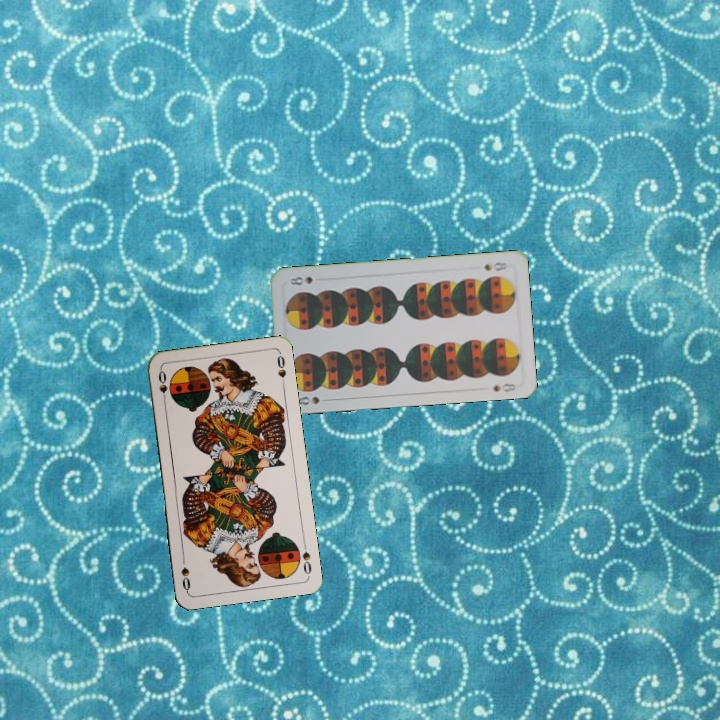S8: (292, 392, 333, 408), (480, 258, 511, 274)
SO: (154, 366, 170, 407), (298, 537, 314, 577)
